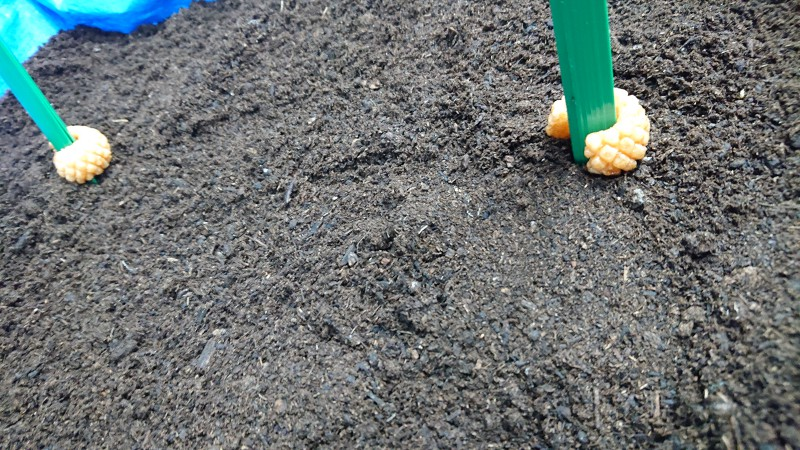eggs: (542, 80, 653, 178), (42, 121, 114, 187)
